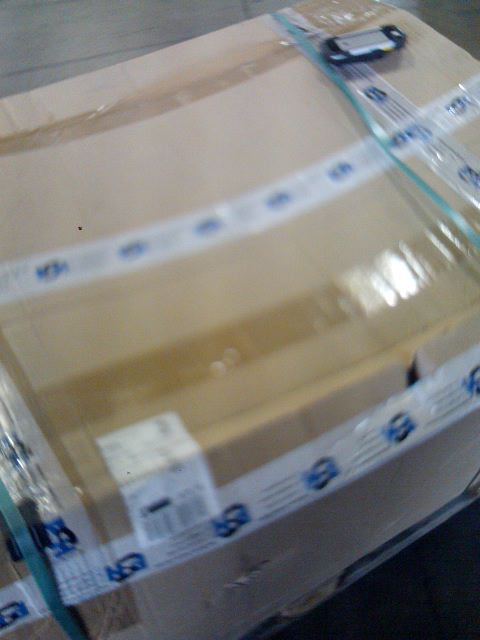package: (0, 0, 478, 640), (93, 407, 220, 551)
